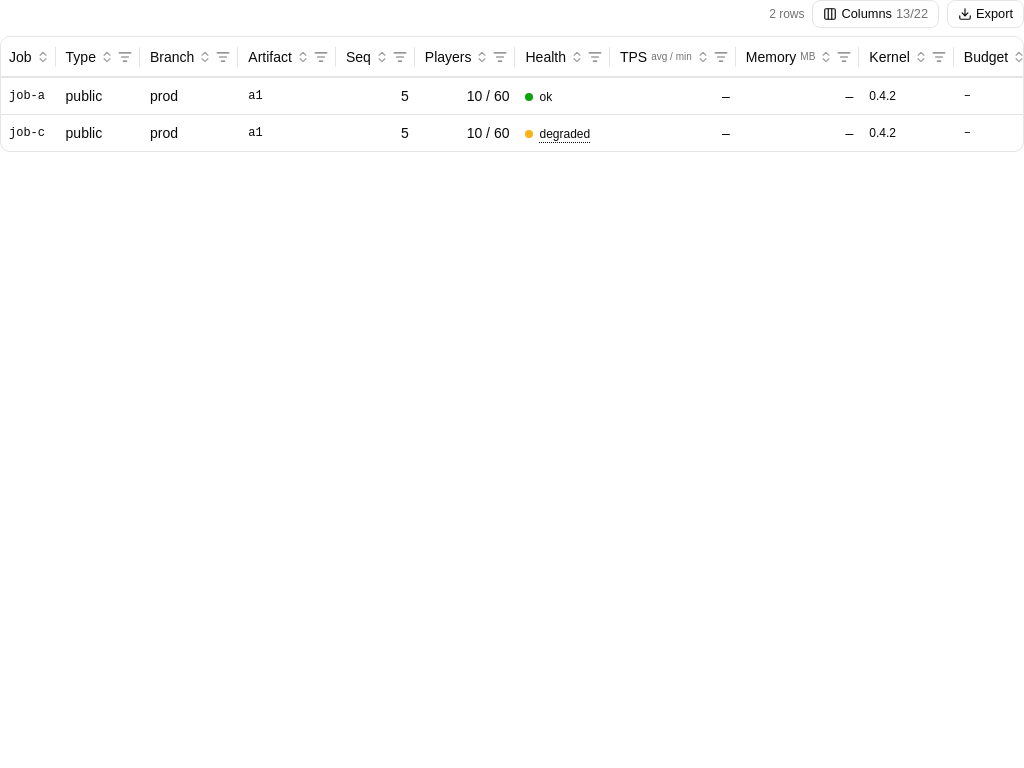
Test case: the fleet servers table › the Health badge of a server with reasons opens them; a healthy one is plain text
The image size is (1024, 768).
Click the button with aria-label "degraded: 3 reasons, show why" at {"x": 558, "y": 134}, box [526,126,590,142]
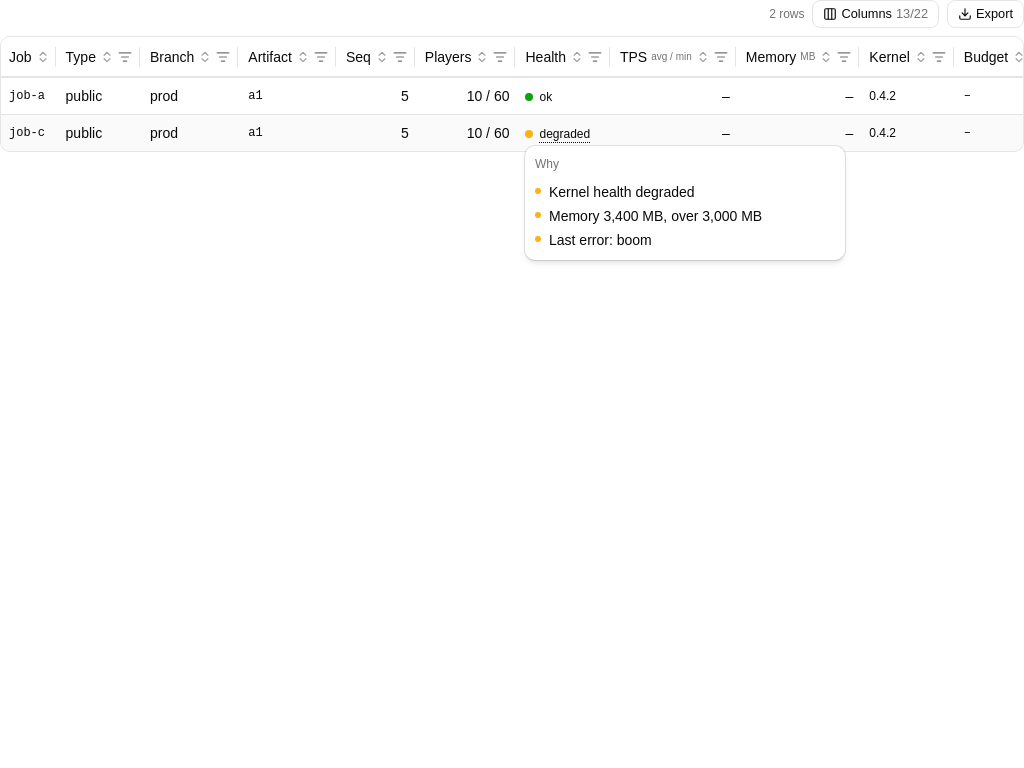
Result: the text "Memory 3,400 MB, over 3,000 MB" is shown at [549,206,762,226]
Result: the text "Last error: boom" is shown at [549,230,652,250]
